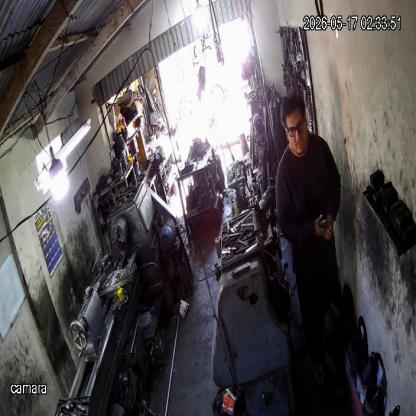lentes: (284, 118, 305, 136)
